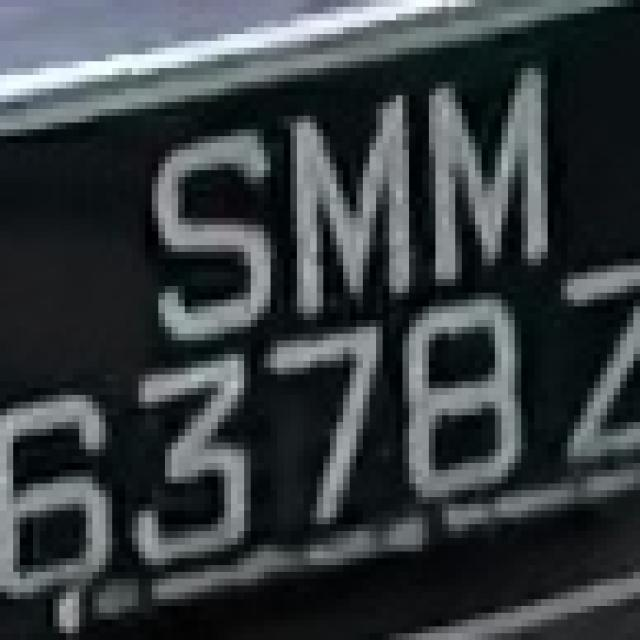3: (106, 327, 277, 572)
6: (14, 381, 126, 620)
7: (264, 327, 402, 558)
8: (369, 286, 528, 524)
M: (409, 61, 581, 293), (270, 82, 429, 327)
S: (152, 123, 284, 354)
Z: (522, 245, 634, 497)
